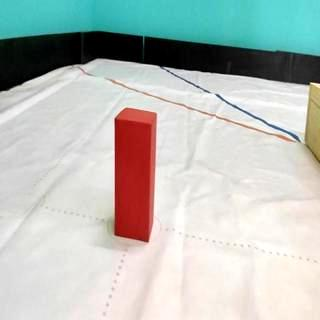redbox: (114, 105, 157, 242)
